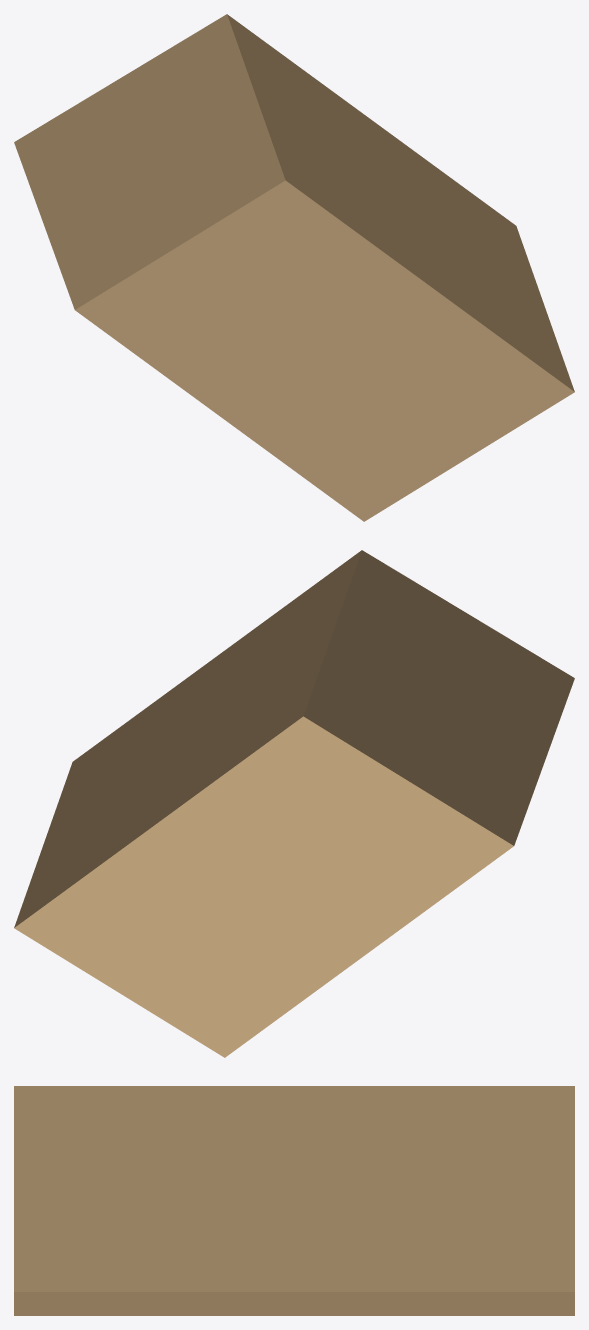
3 renders of one model, top to bottom at view 1: azimuth 30°, elevation 25°; view 2: azimuth 150°, elevation 25°; view 3: azimuth 270°, elevation 25°, orthographic. The views are drawn at different scales.
Parts seen in each view (by area): view 1: 0_0_1_1_3_2_3_3_1_3; view 2: 0_0_1_1_3_2_3_3_1_3; view 3: 0_0_1_1_3_2_3_3_1_3.
Part boxes in pixels (box(x1,y1,x2,y2)): 0_0_1_1_3_2_3_3_1_3: box(14, 14, 574, 521); 0_0_1_1_3_2_3_3_1_3: box(14, 550, 574, 1057); 0_0_1_1_3_2_3_3_1_3: box(14, 1086, 574, 1315).
Size of the model in its own units: 11.38 by 10.37 by 21.
